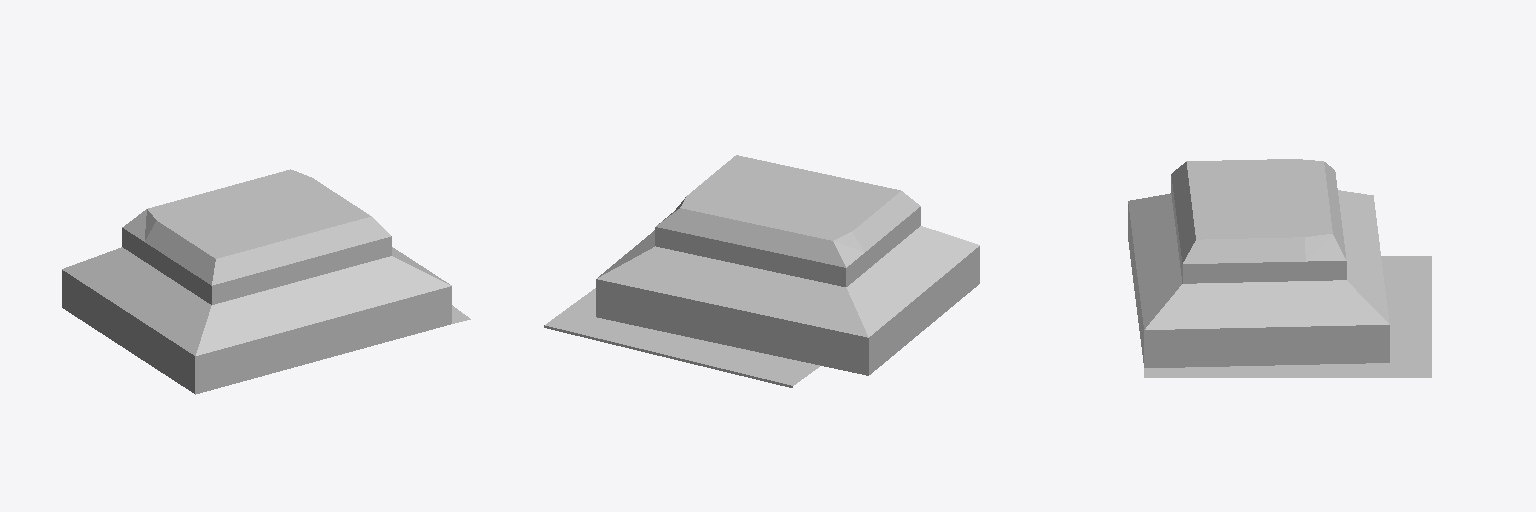
3 views of the same model, side by side, from view 1: azimuth 30°, elevation 25°; view 2: azimuth 150°, elevation 25°; view 3: azimuth 270°, elevation 25° (orthographic).
Parts seen in each view (by area): view 1: 0F_hut_r_Plane.005; view 2: 0F_hut_r_Plane.005; view 3: 0F_hut_r_Plane.005.
Boxes of the visible parts, box(x1,y1,x2,y2) form: 0F_hut_r_Plane.005: box(62, 169, 470, 394); 0F_hut_r_Plane.005: box(544, 155, 979, 387); 0F_hut_r_Plane.005: box(1128, 159, 1431, 377).
Bounding box in the file's own units: 3.79 × 1.29 × 3.38.